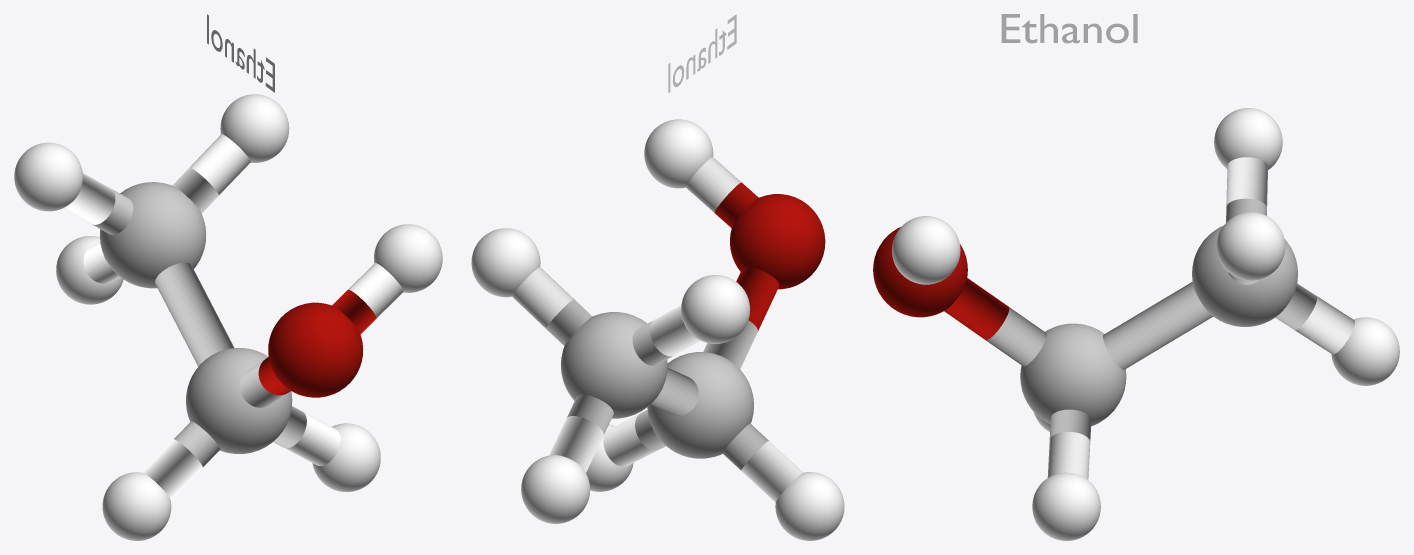
Rendered from ethanol.glb.
The picture shows the model from 3 angles, left to right: view 1: azimuth 30°, elevation 25°; view 2: azimuth 150°, elevation 25°; view 3: azimuth 270°, elevation 25°; orthographic projection.
Visible parts, largest first — view 1: Ethanol, Text.018; view 2: Ethanol, Text.018; view 3: Ethanol, Text.018.
Boxes of the visible parts, x1,y1,x2,y2 form: Ethanol: [14, 94, 442, 540]; Text.018: [207, 14, 274, 92]; Ethanol: [471, 119, 844, 540]; Text.018: [668, 14, 736, 92]; Ethanol: [873, 108, 1399, 540]; Text.018: [1001, 14, 1137, 43].
Bounding box in the file's own units: 6.61 × 11.1 × 11.2.
